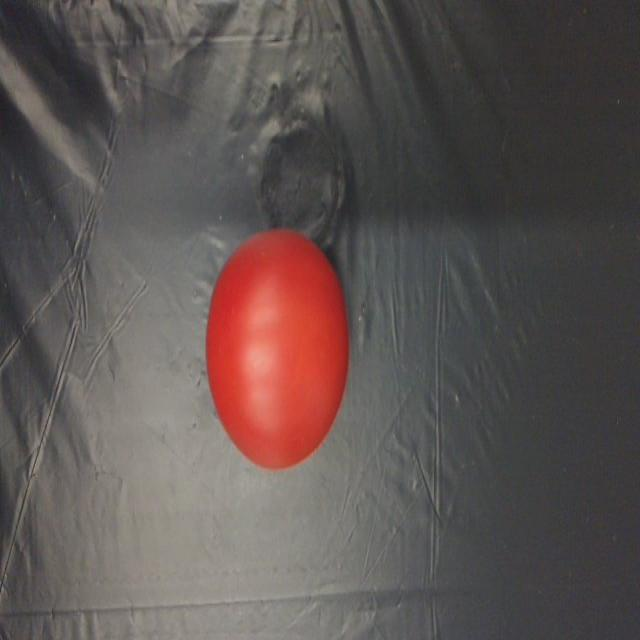kirmizi: (206, 230, 360, 482)
